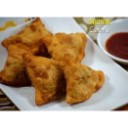samosa: (60, 51, 105, 104), (21, 52, 61, 101), (3, 18, 48, 54), (41, 31, 88, 64), (3, 45, 33, 86)
